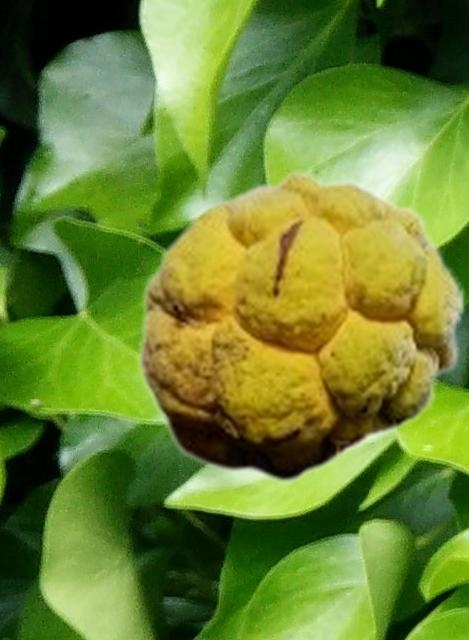atis: (135, 169, 465, 482)
